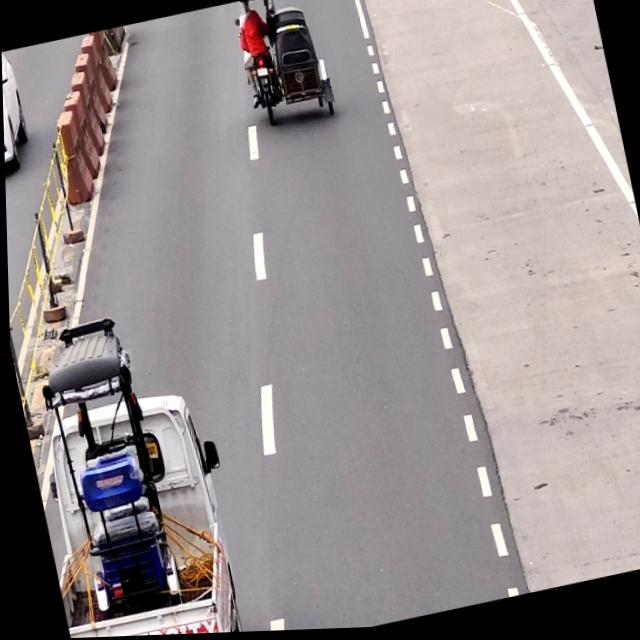Tricycle: (230, 0, 332, 123)
Truck: (22, 385, 245, 640)
